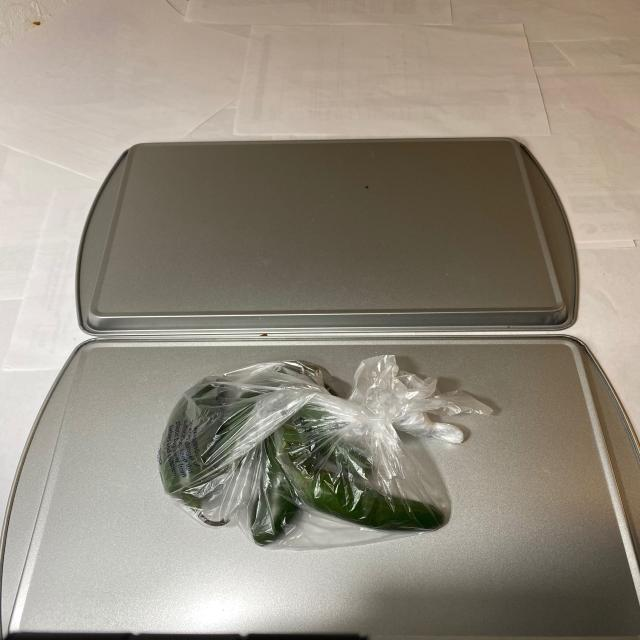chilli: (154, 359, 450, 537)
